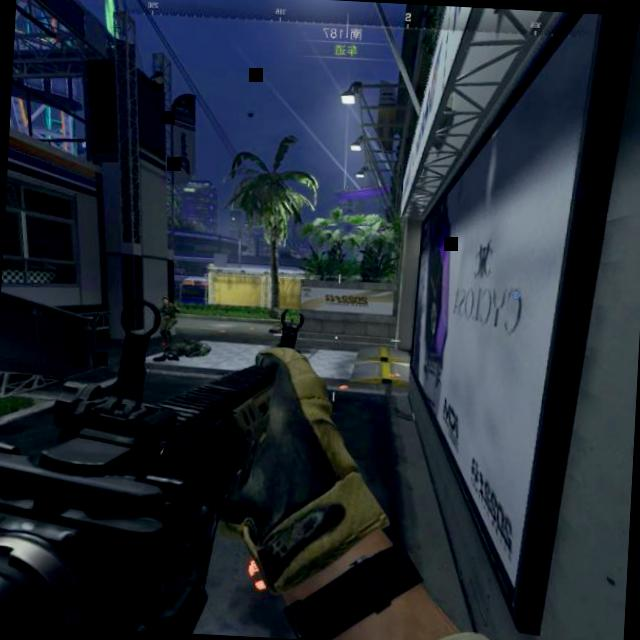MW2_body: (158, 297, 180, 342)
